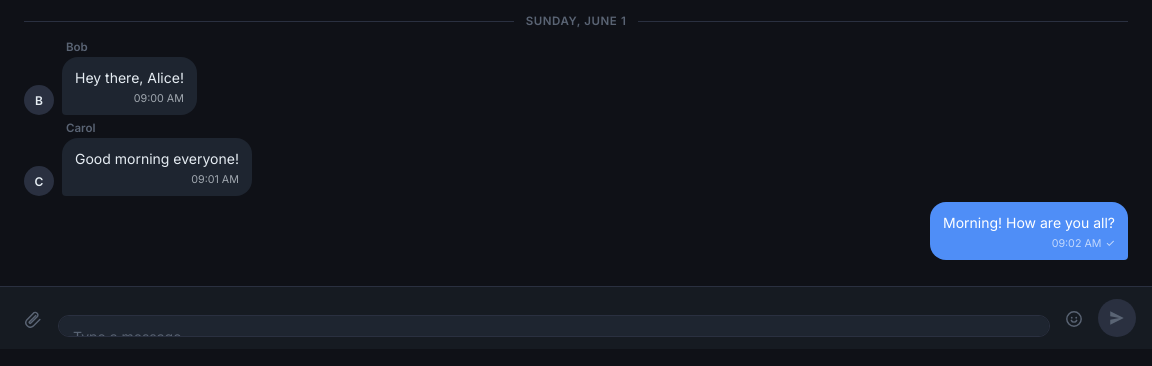
Test: ChatWindow › sending messages › Send button becomes enabled only after the user types non-whitespace content
Expected: the button titled "Send" is disabled, [1098,299,1136,337]
Type "Hi" into the text box with placeholder "Type a message…".
click(554, 326); type("Hi")  # box [58,315,1050,337]
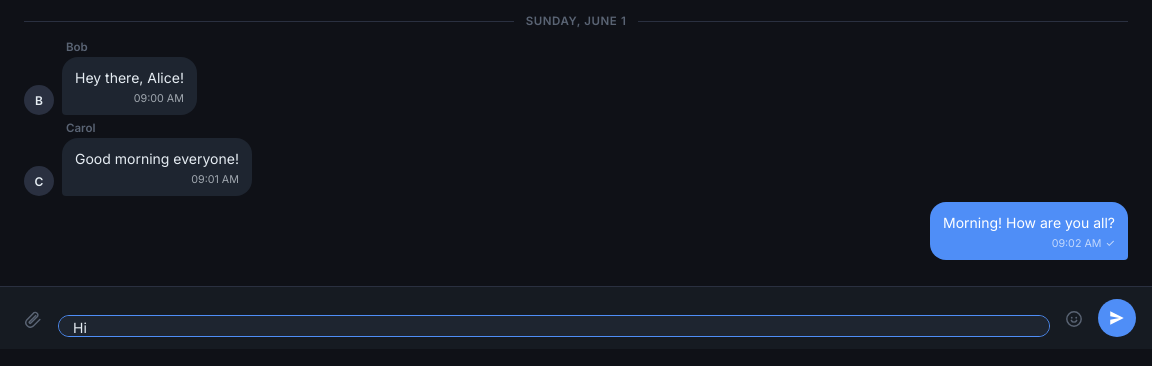
Now the button titled "Send" is enabled, box [1098,299,1136,337]
